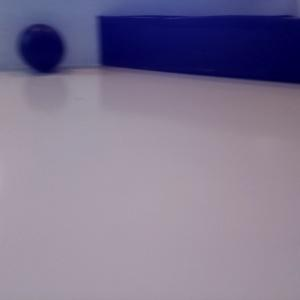zone: (98, 15, 300, 85)
